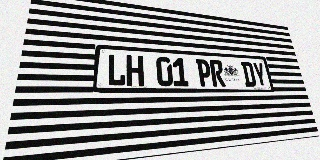0: (156, 57, 173, 86)
1: (171, 57, 189, 86)
D: (241, 62, 257, 87)
H: (126, 55, 144, 86)
L: (107, 54, 126, 86)
P: (196, 59, 213, 86)
R: (209, 60, 226, 87)
Y: (252, 62, 268, 87)
